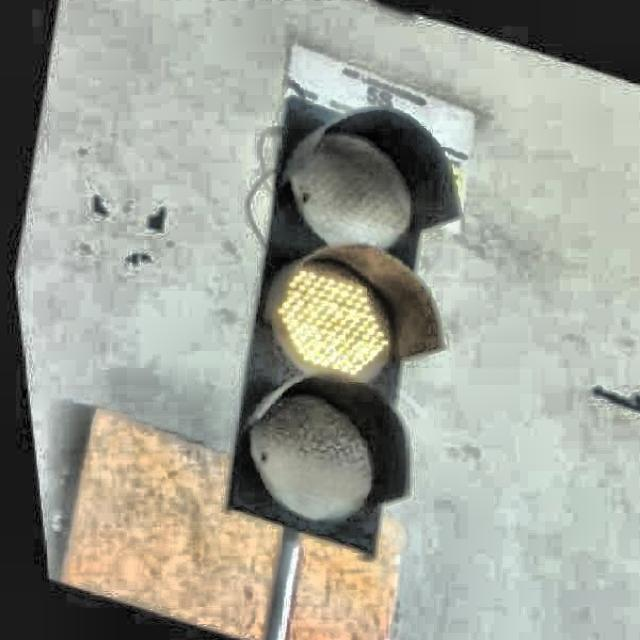yellow: (170, 71, 511, 572)
